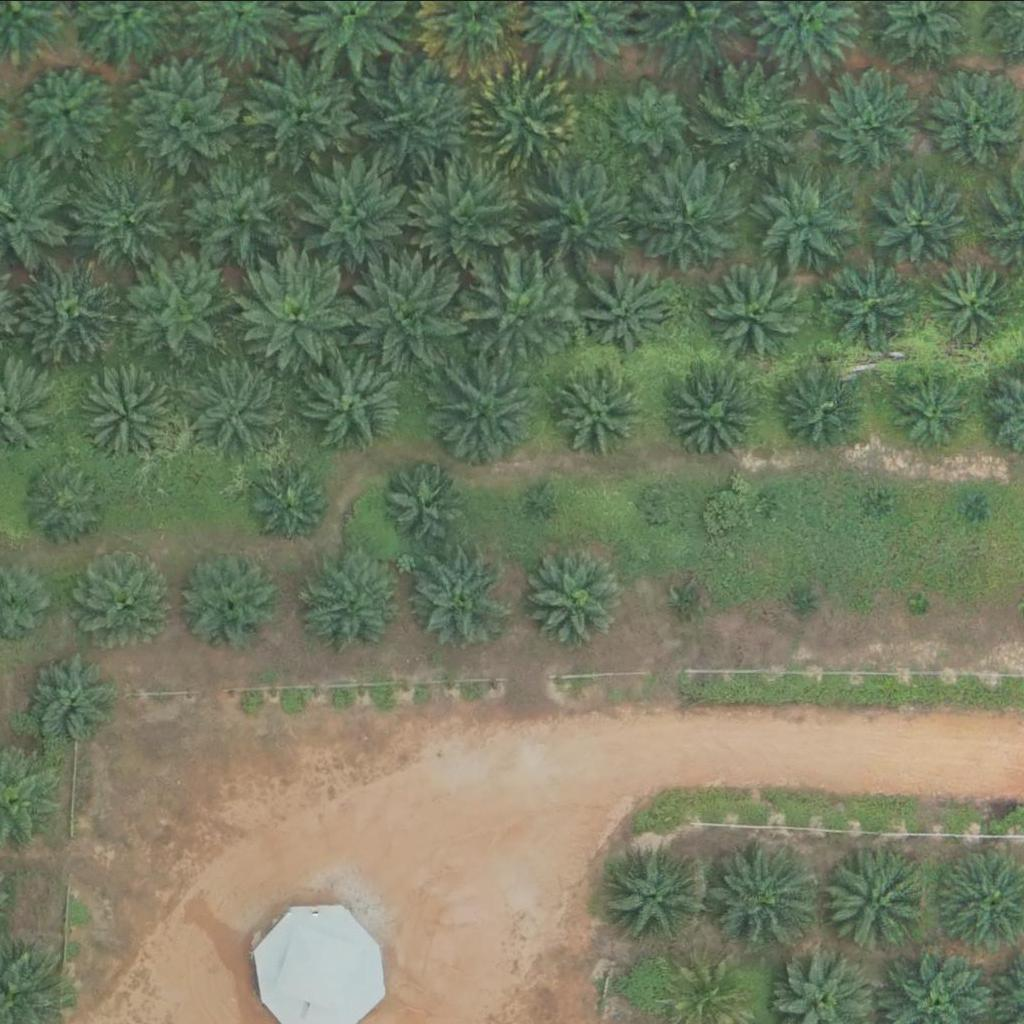Kelapa_Sawit: (427, 355, 541, 468), (15, 250, 128, 363), (71, 163, 184, 276), (186, 155, 299, 268), (126, 55, 239, 168), (240, 52, 353, 165), (358, 53, 471, 166), (468, 62, 581, 175), (355, 256, 469, 368), (525, 162, 639, 274), (628, 158, 742, 270), (461, 253, 575, 365), (124, 256, 237, 368), (245, 257, 358, 369), (297, 154, 410, 266), (412, 165, 525, 277), (705, 837, 818, 949), (299, 555, 400, 655), (78, 362, 179, 462), (17, 57, 118, 157), (757, 171, 858, 271), (706, 262, 807, 362), (818, 254, 919, 354), (410, 547, 511, 647), (518, 549, 619, 649), (605, 847, 706, 947), (73, 545, 173, 645), (180, 550, 280, 650), (192, 352, 292, 452), (305, 350, 405, 450), (701, 66, 801, 166), (822, 73, 922, 173), (825, 852, 925, 952), (887, 362, 976, 450), (25, 648, 113, 736), (779, 365, 867, 453), (931, 256, 1019, 344), (24, 457, 112, 544), (883, 177, 971, 264), (584, 265, 672, 352), (551, 365, 639, 452), (673, 372, 761, 459), (380, 459, 468, 546), (252, 464, 328, 539), (612, 82, 688, 157), (643, 483, 681, 521), (528, 483, 553, 508), (758, 487, 783, 512), (874, 493, 899, 518), (678, 587, 703, 612), (791, 587, 816, 612), (909, 591, 934, 616), (963, 492, 988, 517)
